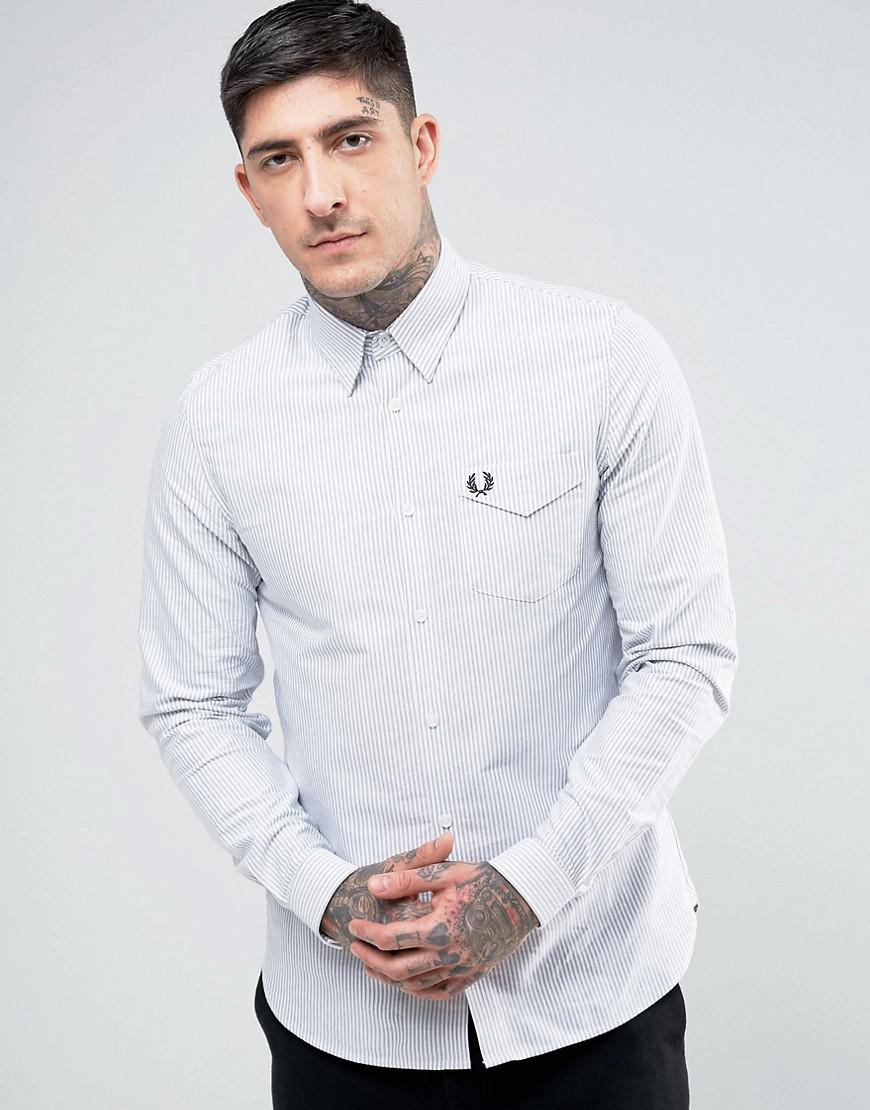teeshirt: (124, 256, 756, 1051)
